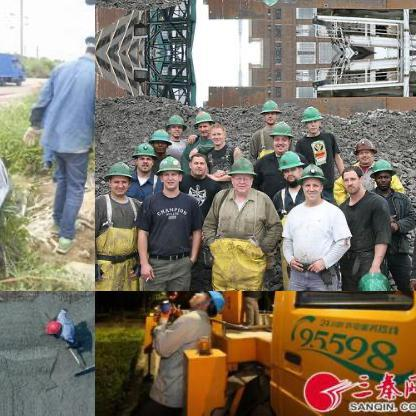Helmet: (102, 159, 132, 193), (228, 154, 256, 190), (297, 162, 325, 198), (188, 291, 226, 313), (277, 148, 301, 181), (157, 154, 181, 186), (369, 156, 393, 186), (299, 102, 321, 132), (270, 119, 290, 151), (132, 142, 154, 170), (79, 27, 94, 67), (148, 126, 172, 150), (352, 136, 374, 162), (164, 111, 186, 135), (191, 110, 211, 134), (258, 97, 278, 121), (40, 316, 64, 336), (257, 0, 280, 7)
